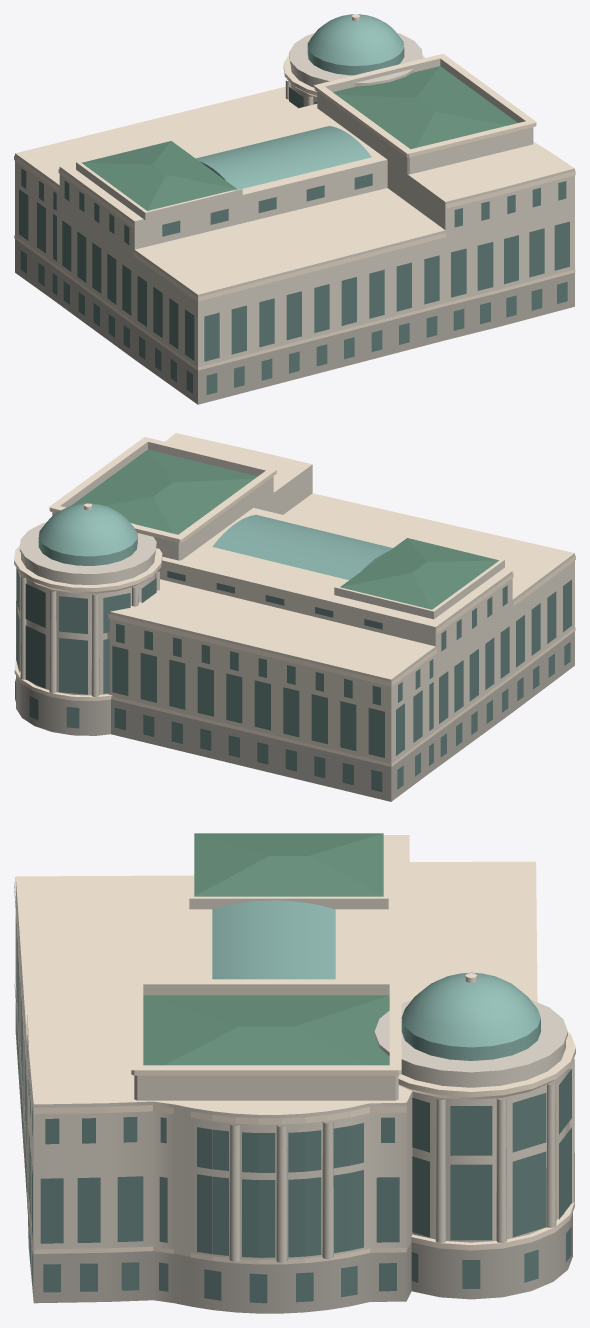
File: ral-nc-museum-of-natural-sciences.glb
3 views of the same model, one above another, from view 1: azimuth 30°, elevation 25°; view 2: azimuth 150°, elevation 25°; view 3: azimuth 270°, elevation 25° (orthographic). The views are drawn at different scales.
Visible parts, largest first — view 1: North Carolina Museum of Natural Sciences; view 2: North Carolina Museum of Natural Sciences; view 3: North Carolina Museum of Natural Sciences.
Boxes of the visible parts, x1,y1,x2,y2 form: North Carolina Museum of Natural Sciences: (14, 14, 575, 404); North Carolina Museum of Natural Sciences: (14, 433, 575, 801); North Carolina Museum of Natural Sciences: (14, 833, 575, 1313).
Bounding box in the file's own units: 67.59 × 31.1 × 56.38.
